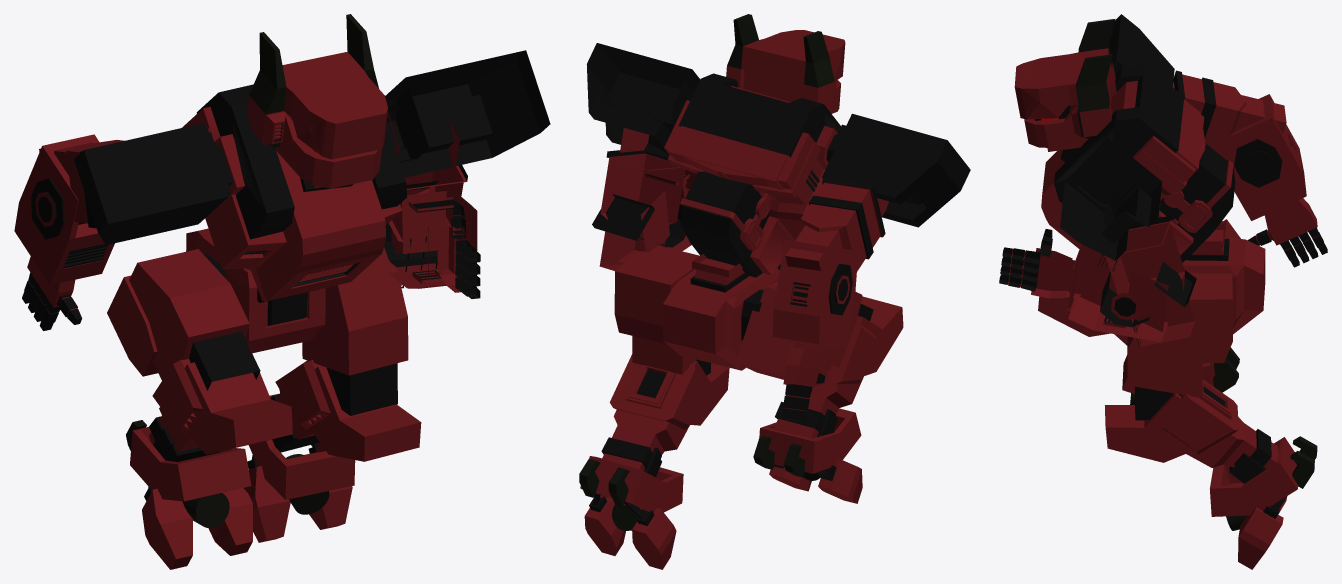
The model's file is walk2.obj.
3 renders of one model, left to right at view 1: azimuth 30°, elevation 25°; view 2: azimuth 150°, elevation 25°; view 3: azimuth 270°, elevation 25°, orthographic. The views are drawn at different scales.
Parts seen in each view (by area): view 1: R_UpperShoulder_Cube.030; view 2: R_UpperShoulder_Cube.030; view 3: R_UpperShoulder_Cube.030.
Boxes of the visible parts, bbox=[...] form: R_UpperShoulder_Cube.030: bbox=[14, 14, 550, 569]; R_UpperShoulder_Cube.030: bbox=[579, 14, 970, 569]; R_UpperShoulder_Cube.030: bbox=[999, 14, 1327, 569].
Bounding box in the file's own units: 1.42 × 1.86 × 1.14.
